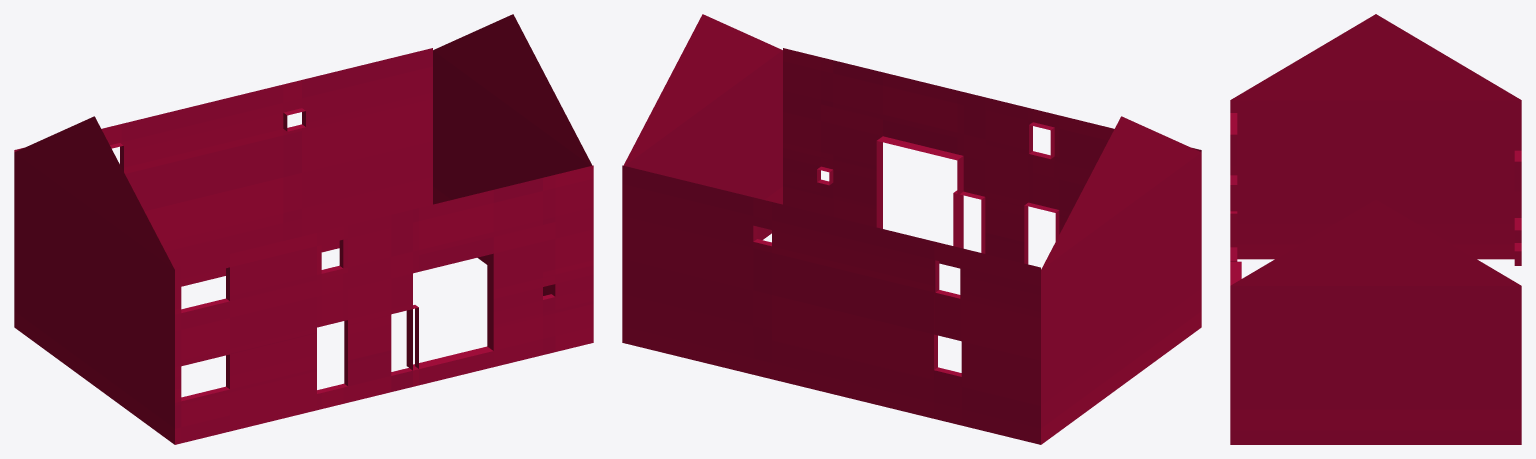
Rendered from SM_Bld_232_Masonry.glb.
3 renders of one model, left to right at view 1: azimuth 30°, elevation 25°; view 2: azimuth 150°, elevation 25°; view 3: azimuth 270°, elevation 25°, orthographic. The views are drawn at different scales.
Visible parts, largest first — view 1: SM_Bld_232_Masonry; view 2: SM_Bld_232_Masonry; view 3: SM_Bld_232_Masonry.
Part boxes in pixels (box(x1,y1,x2,y2)): SM_Bld_232_Masonry: box(14, 14, 593, 444); SM_Bld_232_Masonry: box(622, 14, 1201, 444); SM_Bld_232_Masonry: box(1230, 14, 1521, 444).
Bounding box in the file's own units: 13.51 × 8.33 × 8.97.
